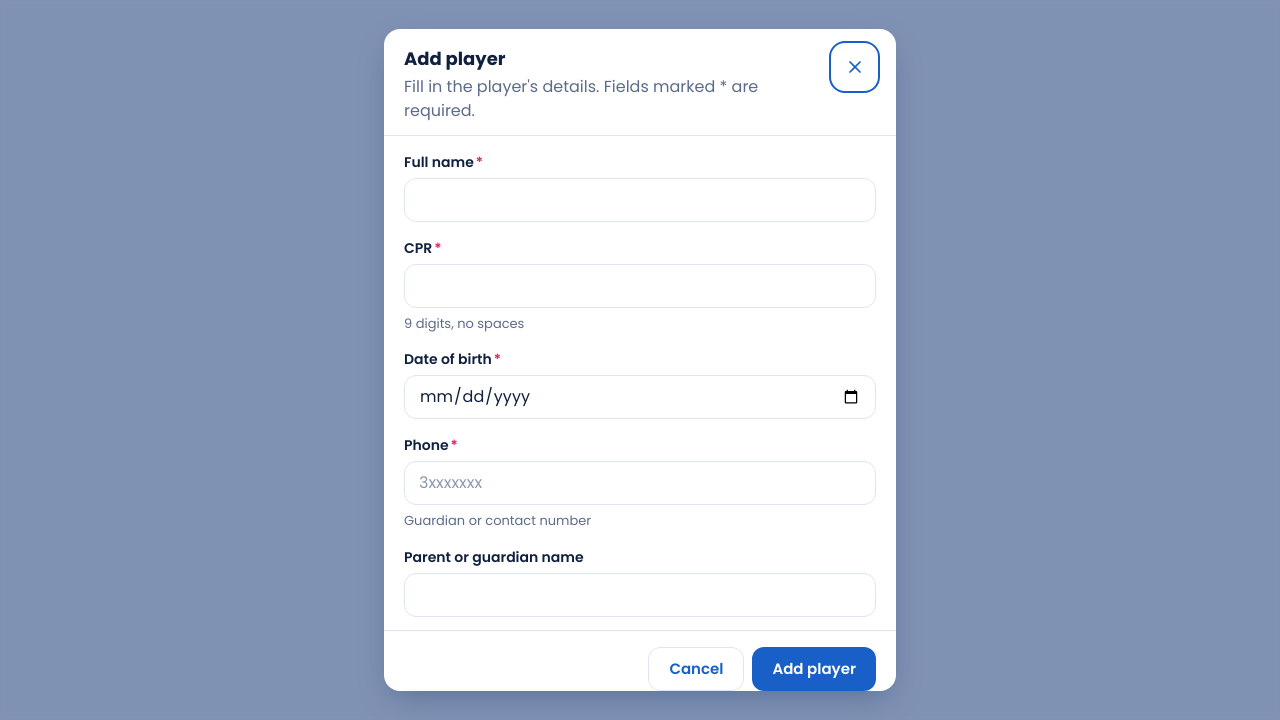
Test: PlayerFormDialog › validation › rejects a CPR that is not 9 digits
The width and height of the screenshot is (1280, 720).
Type "  Yousef Al Mahmood " into the field labelled "Full name*" at (640,200), box [404,178,876,222]
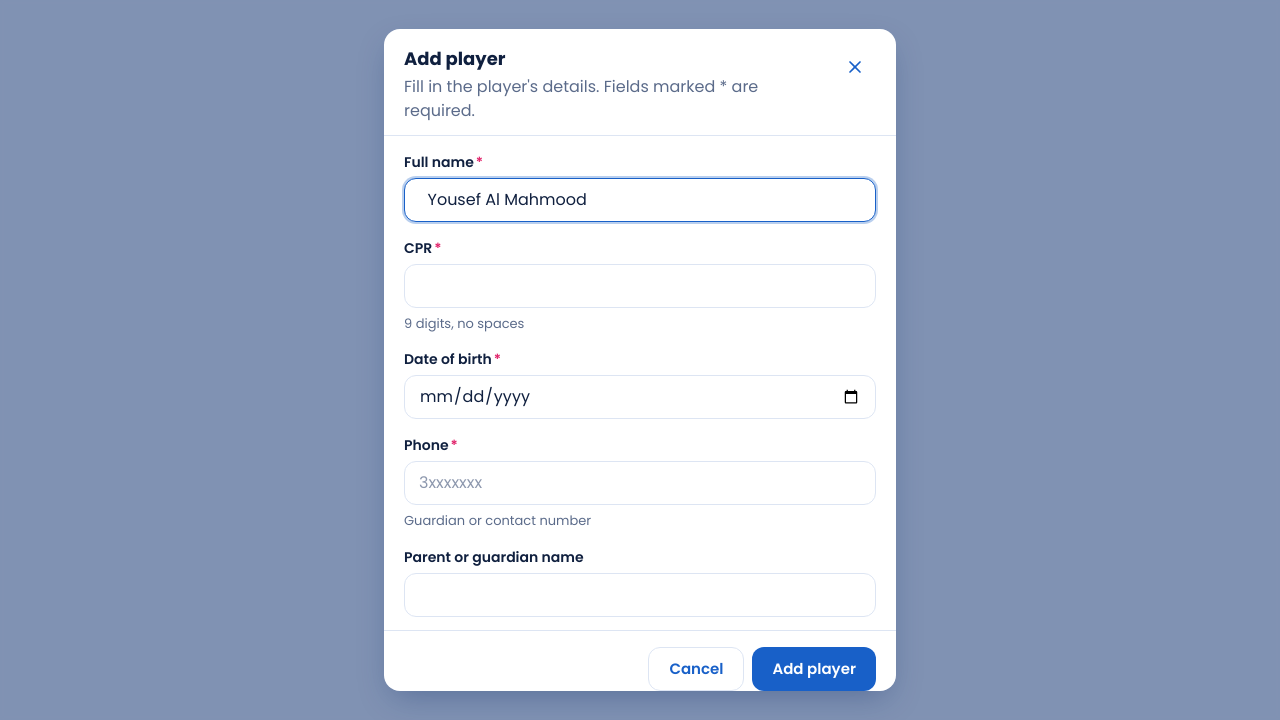
Type "150312345" into the field labelled "CPR*" at (640,286), box [404,264,876,308]
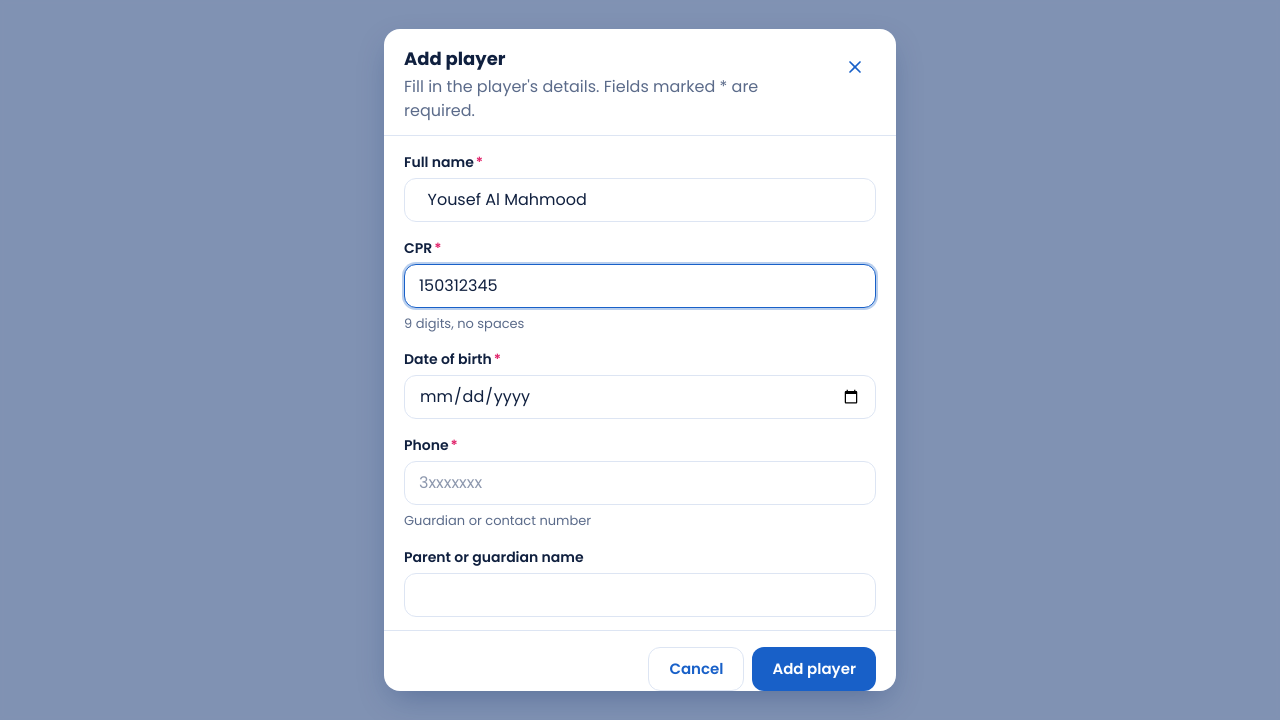
Type "2015-03-12" into the date field labelled "Date of birth*" at (640,397), box [404,375,876,419]
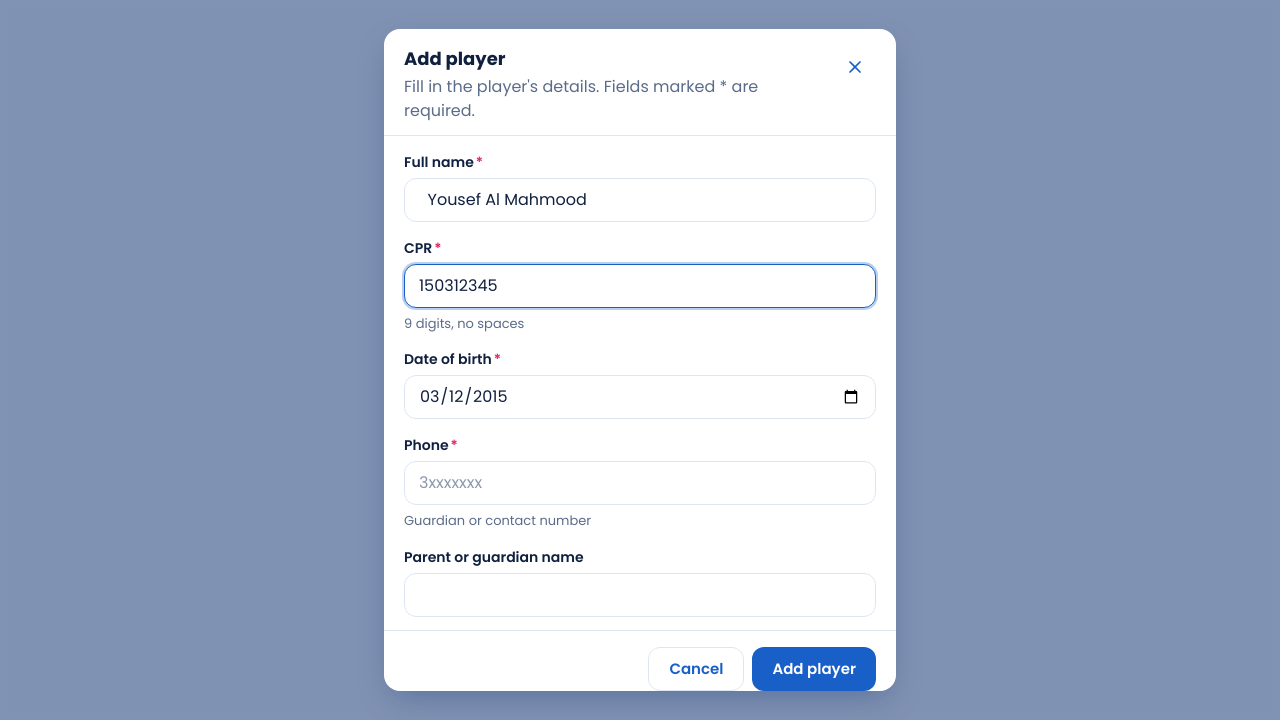
Type "39111001" into the field labelled "Phone*" at (640,483), box [404,461,876,505]
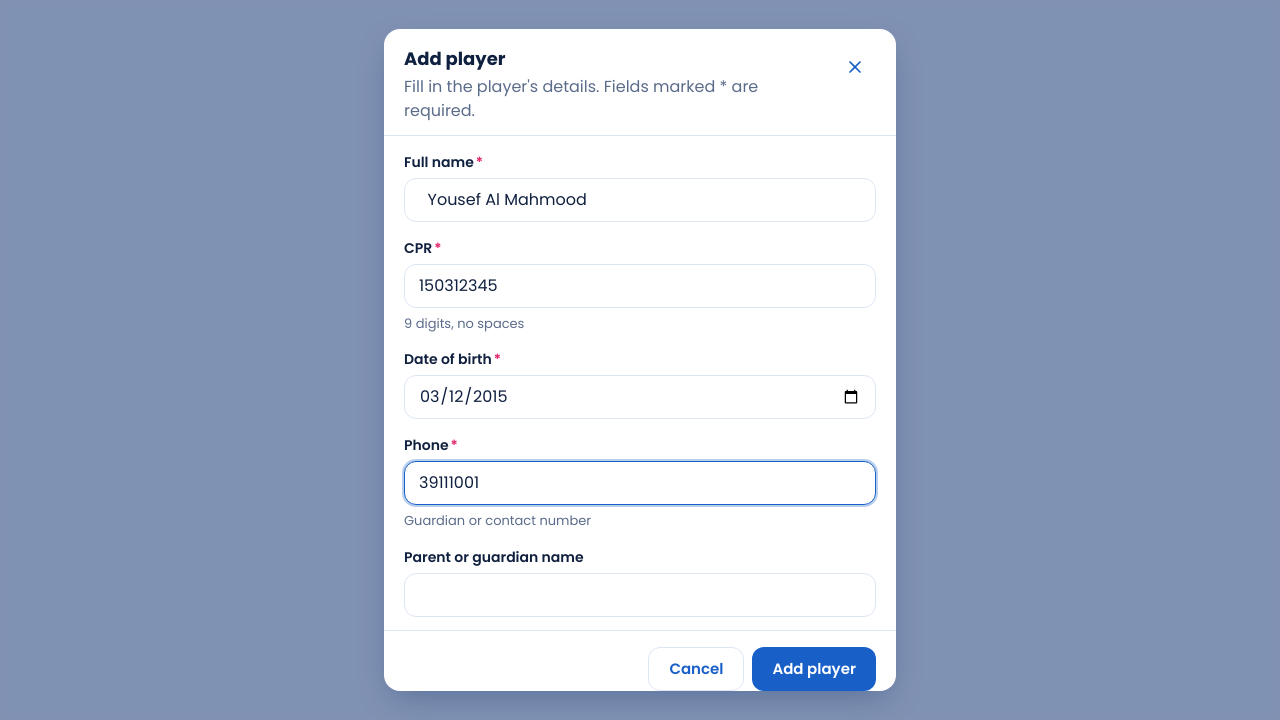
Replace the text in the field labelled "CPR*" with "12345678" at (640,286), box [404,264,876,308]
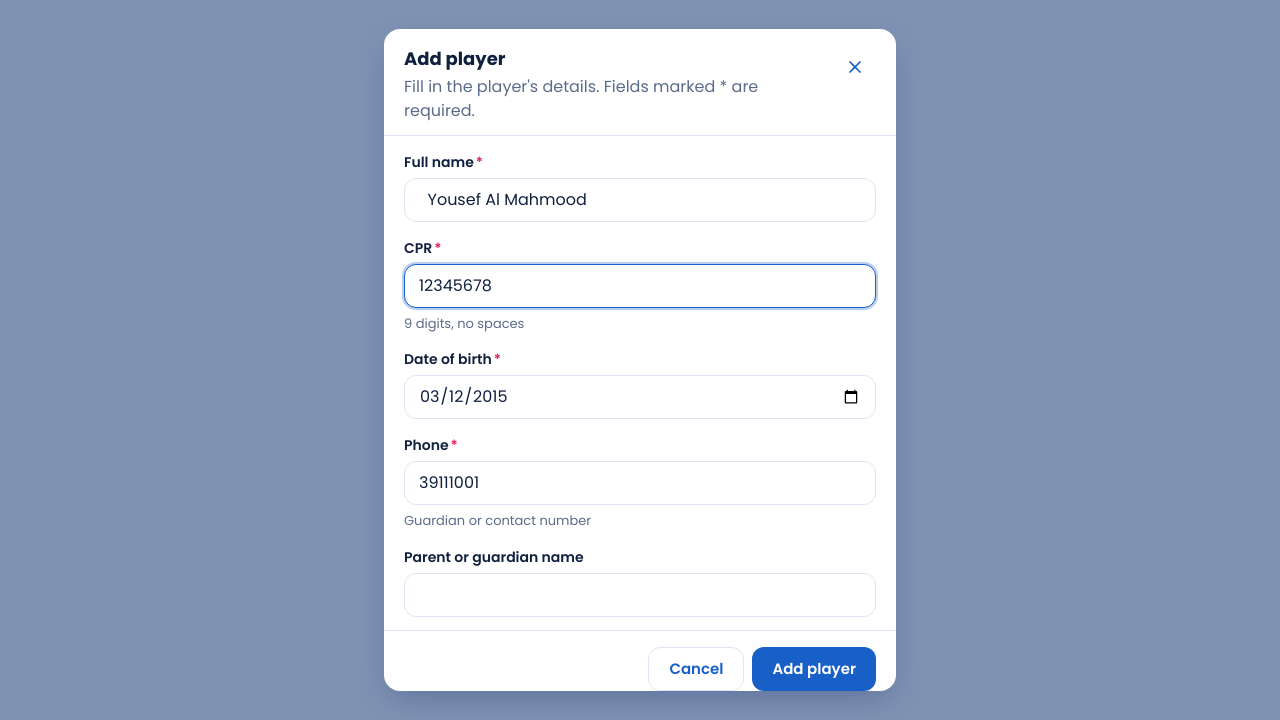
Click the button "Add player" at (814,669), box [752,647,876,691]
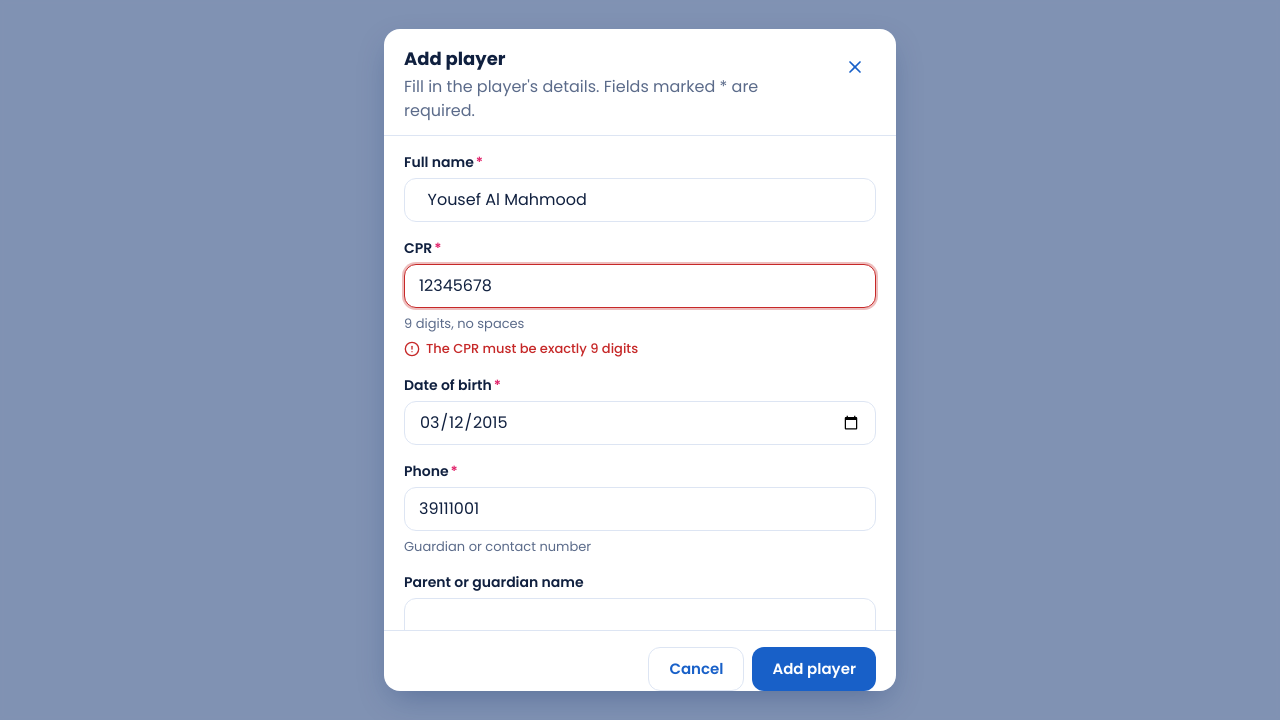
Expected: the text "The CPR must be exactly 9 digits" is shown, [426,339,638,359]
